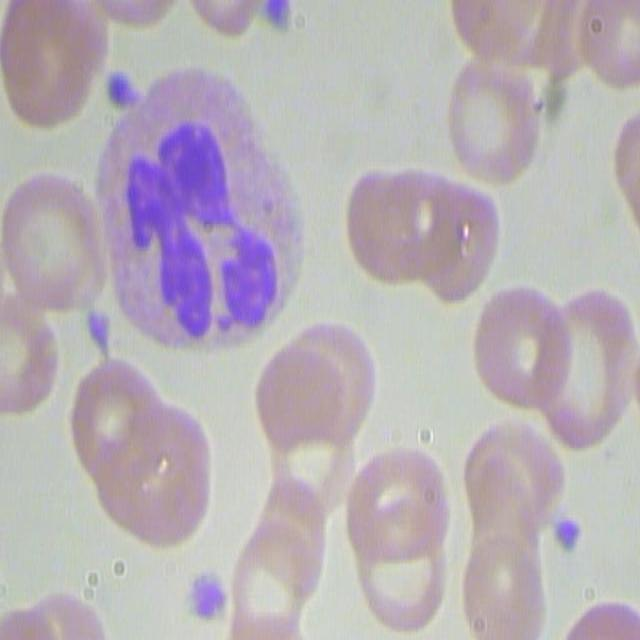RBC: (84, 353, 212, 546), (342, 437, 462, 629), (255, 312, 370, 512), (344, 157, 500, 299), (536, 283, 635, 456), (230, 476, 332, 638), (2, 163, 110, 313), (443, 60, 545, 188), (0, 2, 101, 130), (448, 0, 587, 91), (470, 280, 565, 412), (464, 434, 543, 564), (458, 537, 544, 638), (5, 592, 166, 640), (0, 288, 54, 419), (565, 0, 640, 91), (178, 0, 268, 37), (574, 594, 640, 640)
WBC: (96, 62, 282, 357)
platelets: (184, 568, 230, 628), (548, 493, 590, 558), (105, 69, 144, 117), (260, 0, 297, 37)
